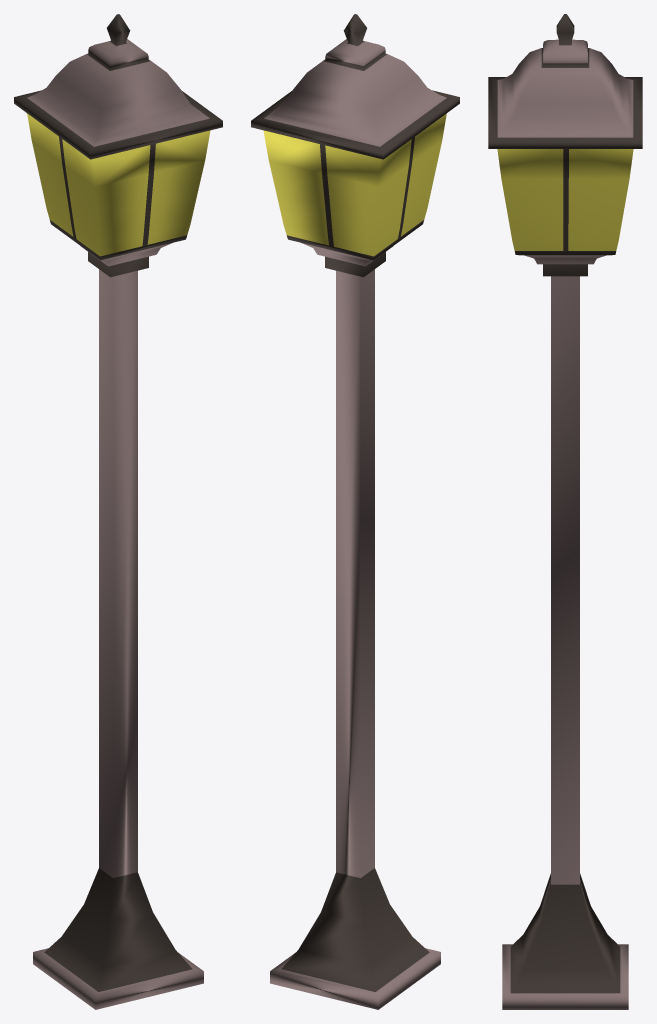
Rendered from Post.fbx.
The picture shows the model from 3 angles, left to right: view 1: azimuth 30°, elevation 25°; view 2: azimuth 150°, elevation 25°; view 3: azimuth 270°, elevation 25°; orthographic projection.
Parts seen in each view (by area): view 1: Cube; view 2: Cube; view 3: Cube.
Boxes of the visible parts, <box> form: Cube: <box>14,14,222,1009</box>; Cube: <box>251,14,459,1009</box>; Cube: <box>488,14,642,1009</box>.
Size of the model in its own units: 56.97 by 56.97 by 394.
